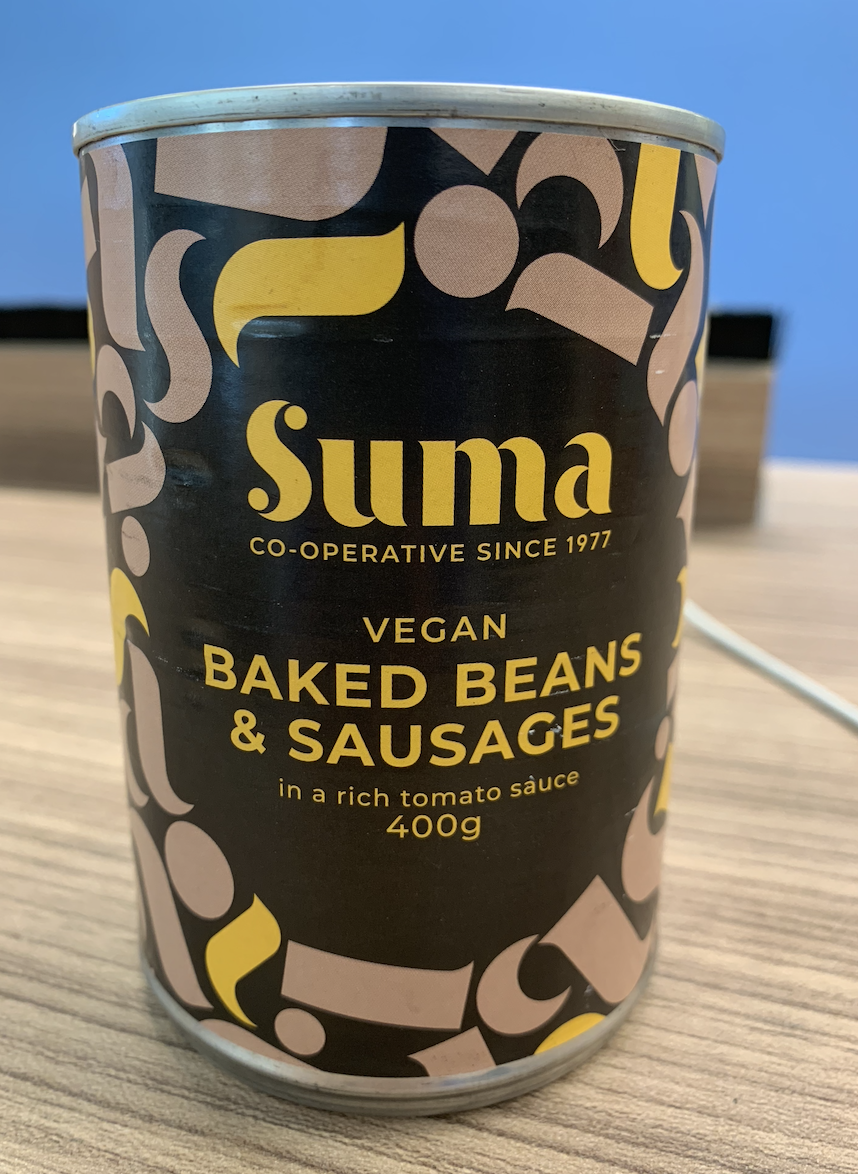Baked beans_450g: (124, 150, 679, 1052)
